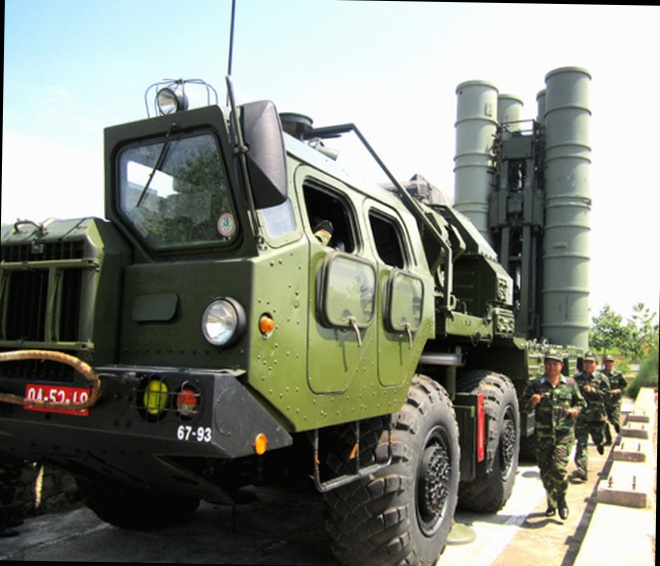plate: (19, 375, 94, 417)
